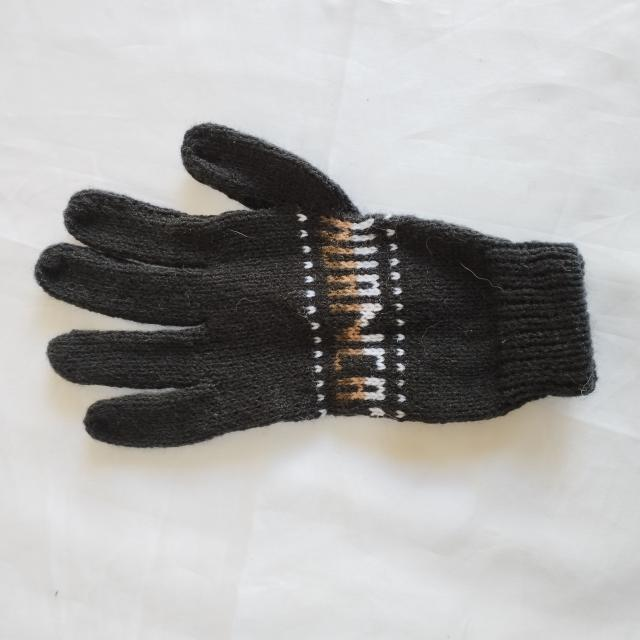Guante: (33, 120, 598, 450)
